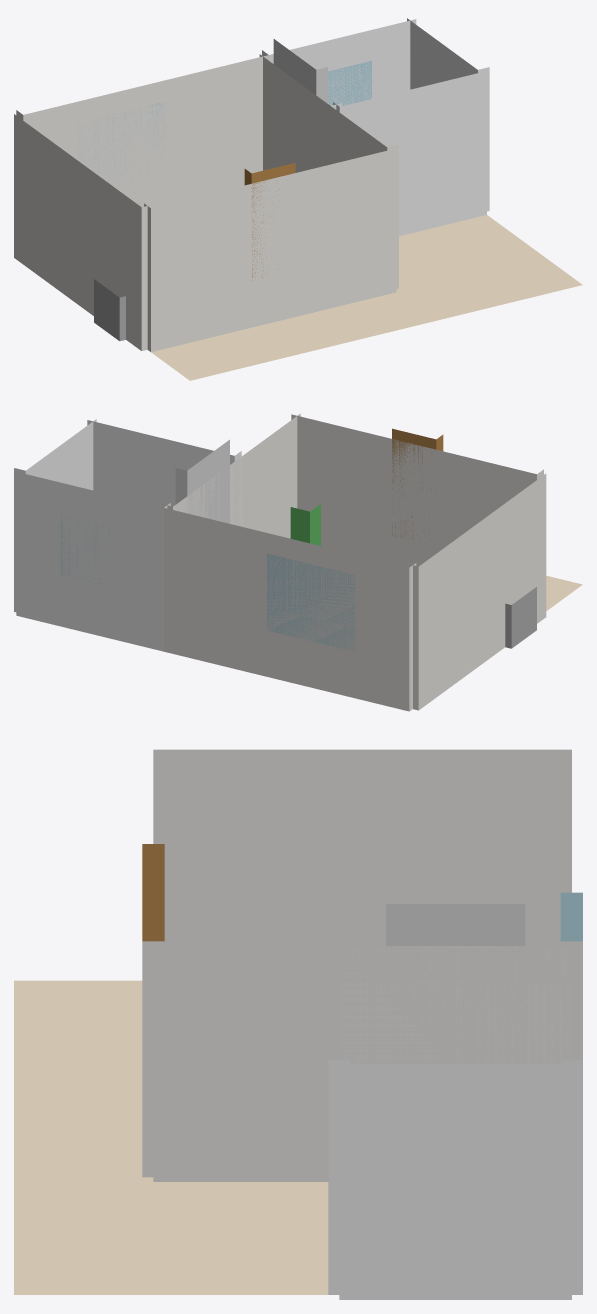
The picture shows the model from 3 angles, top to bottom: view 1: azimuth 30°, elevation 25°; view 2: azimuth 150°, elevation 25°; view 3: azimuth 270°, elevation 25°; orthographic projection. The views are drawn at different scales.
Parts seen in each view (by area): view 1: wall_living_south, wall_living_north, floor, wall_living_west, wall_kitchen_south, wall_living_east, wall_kitchen_north, wall_kitchen_east, window_8, archway_12, sofa_1, door_5 (+1 smaller); view 2: wall_living_north, wall_living_south, wall_kitchen_north, wall_living_west, wall_living_east, wall_kitchen_south, window_2, archway_12, wall_kitchen_east, sofa_1, plant_1, door_5 (+2 smaller); view 3: wall_living_west, wall_living_east, floor, wall_kitchen_east, wall_kitchen_west, archway_12, wall_living_south, wall_kitchen_south, wall_kitchen_north, door_5, wall_living_north, window_2.
Boxes of the visible parts, x1,y1,x2,y2 form: wall_living_south: [144, 148, 396, 351]; wall_living_north: [16, 55, 268, 207]; floor: [151, 215, 582, 380]; wall_living_west: [14, 114, 153, 350]; wall_kitchen_south: [333, 71, 486, 236]; wall_living_east: [260, 54, 398, 288]; wall_kitchen_north: [262, 19, 416, 105]; wall_kitchen_east: [407, 18, 489, 211]; window_8: [328, 60, 371, 105]; archway_12: [273, 39, 327, 103]; sofa_1: [94, 279, 125, 341]; door_5: [244, 163, 295, 280]; wall_living_north: [164, 508, 416, 711]; wall_living_south: [291, 414, 543, 566]; wall_kitchen_north: [16, 472, 170, 651]; wall_living_west: [407, 473, 546, 710]; wall_living_east: [161, 413, 300, 538]; wall_kitchen_south: [87, 420, 241, 506]; window_2: [267, 553, 355, 651]; archway_12: [175, 439, 229, 523]; wall_kitchen_east: [14, 419, 96, 612]; sofa_1: [505, 587, 536, 648]; plant_1: [290, 504, 320, 545]; door_5: [392, 428, 443, 538]; wall_living_west: [153, 749, 571, 945]; wall_living_east: [153, 946, 571, 1181]; floor: [14, 980, 328, 1294]; wall_kitchen_east: [339, 1064, 571, 1299]; wall_kitchen_west: [339, 946, 571, 1063]; archway_12: [386, 904, 525, 1042]; wall_living_south: [142, 941, 164, 1177]; wall_kitchen_south: [328, 1059, 350, 1294]; wall_kitchen_north: [560, 1059, 582, 1294]; door_5: [142, 844, 164, 941]; wall_living_north: [560, 941, 582, 1059]; window_2: [560, 892, 582, 941].
Size of the model in its own units: 8.37 by 3.3 by 6.12.
